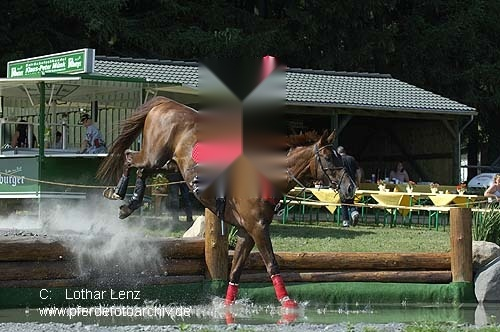horse: (100, 96, 355, 324)
